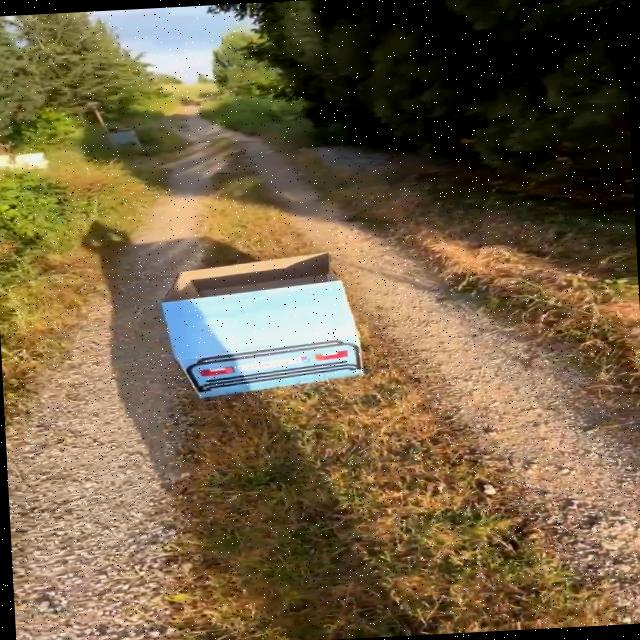blue_car: (113, 231, 411, 430)
